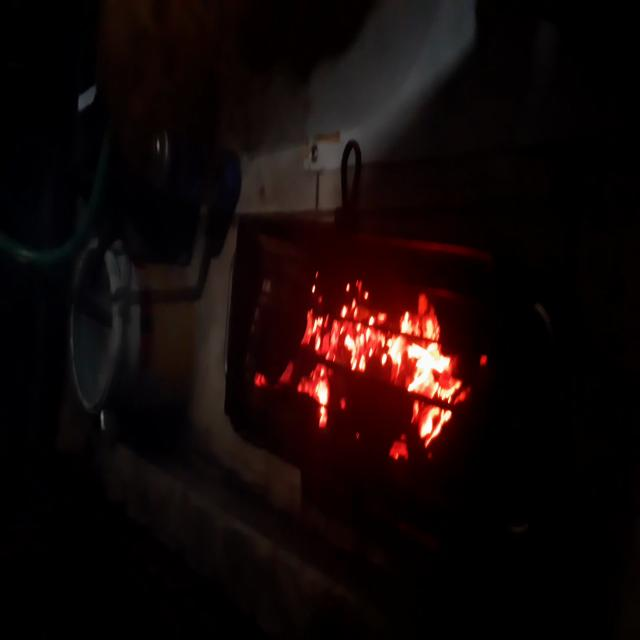Fire: (247, 241, 485, 482)
